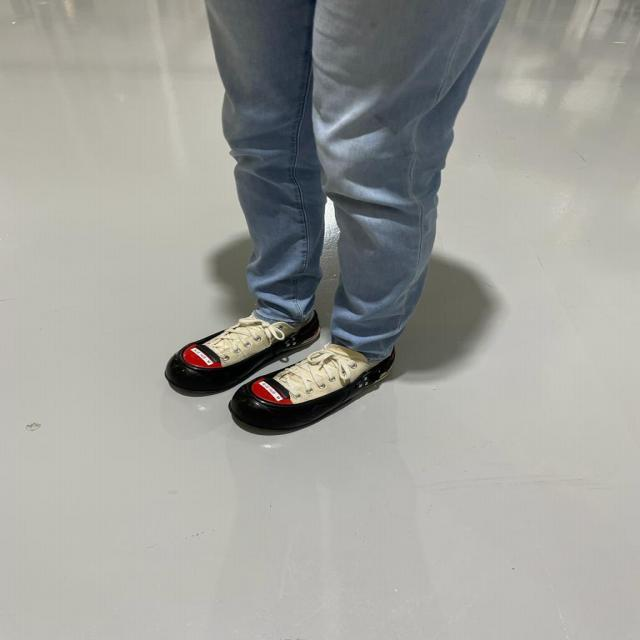shoes: (226, 342, 413, 435), (159, 300, 316, 396)
